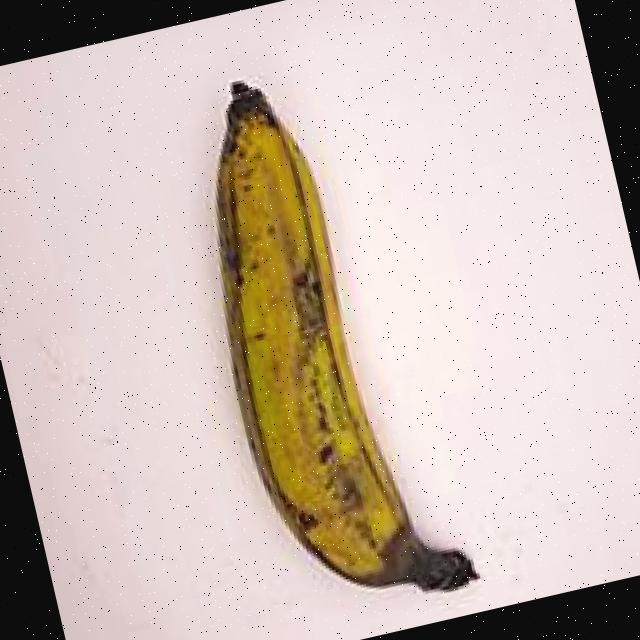Overripe: (104, 11, 527, 640)
